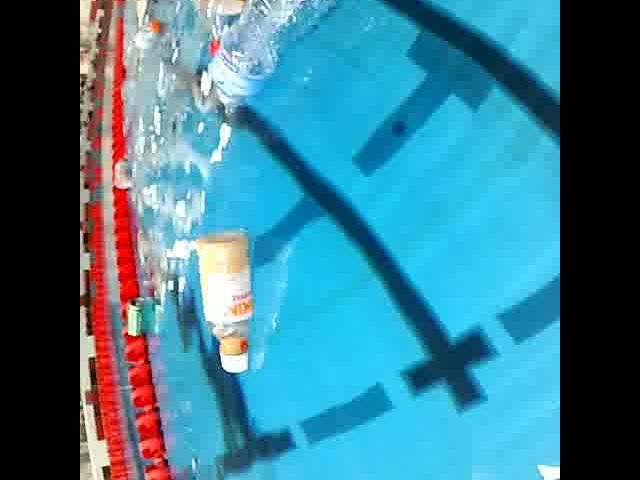Bottle: (205, 0, 341, 116), (192, 227, 264, 378), (188, 0, 243, 68), (110, 152, 140, 196)
Can: (123, 292, 151, 343)
